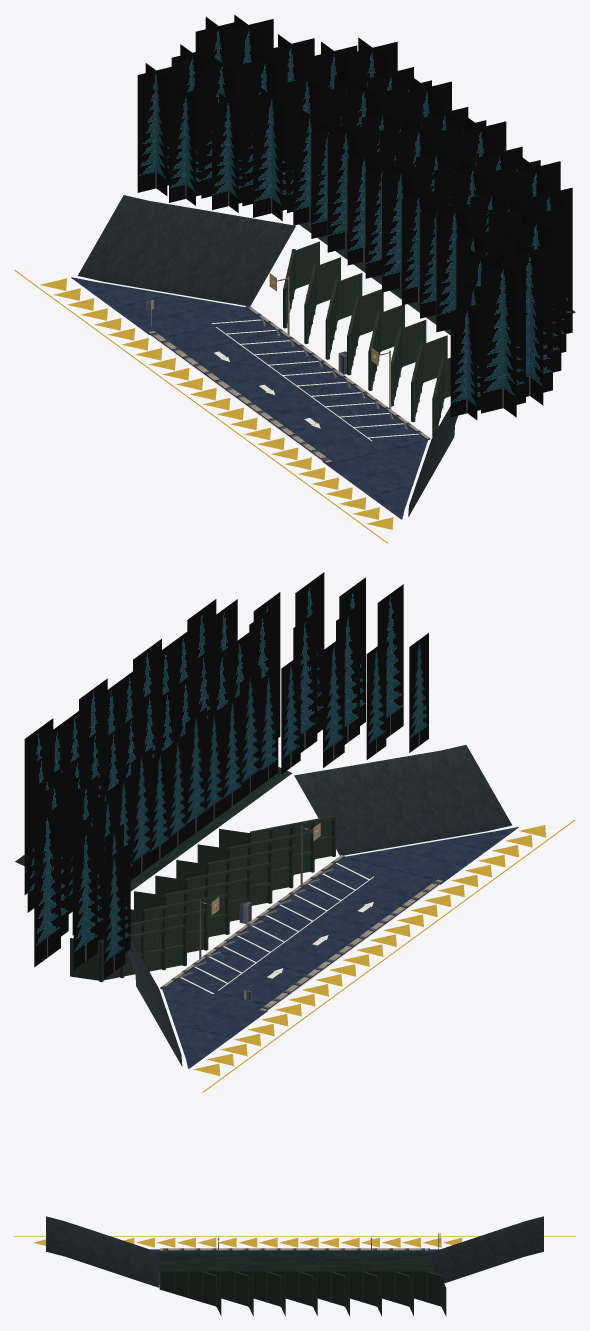
Rendered from lot_assembled_preview.glb.
The picture shows the model from 3 angles, top to bottom: view 1: azimuth 30°, elevation 25°; view 2: azimuth 150°, elevation 25°; view 3: azimuth 270°, elevation 25°; orthographic projection. The views are drawn at different scales.
Visible parts, largest first — view 1: lot_floor, lot_taper_cut, lot_cedar_171, lot_road_paint, lot_cedar_172, lot_cedar_30, lot_cedar_0, lot_cedar_10, lot_cedar_170, lot_cedar_20, lot_cedar_60, lot_cedar_21 (+46 smaller); view 2: lot_floor, lot_taper_cut, lot_road_paint, lot_cedar_2, lot_cedar_1, lattice_z16.0, lot_cedar_171, lot_cedar_0, lot_cedar_90, lot_cedar_150, lot_cedar_151, lot_cedar_120 (+50 smaller); view 3: lot_taper_cut, lot_hill_verge, lot_road_paint, lattice_z44.0, lattice_z16.0, lattice_z40.0, lattice_z32.0, lattice_z36.0, lattice_z28.0, lattice_z24.0, lattice_z20.0, lot_curbs.
Boxes of the visible parts, box(x1,y1,x2,y2) form: lot_floor: box(71, 277, 427, 519); lot_taper_cut: box(77, 195, 457, 516); lot_cedar_171: box(481, 256, 525, 417); lot_road_paint: box(14, 270, 393, 543); lot_cedar_172: box(507, 241, 552, 405); lot_cedar_30: box(253, 88, 286, 220); lot_cedar_0: box(137, 63, 171, 195); lot_cedar_10: box(169, 85, 201, 205); lot_cedar_170: box(450, 300, 480, 419); lot_cedar_20: box(212, 93, 242, 212); lot_cedar_60: box(327, 123, 361, 252); lot_cedar_21: box(242, 49, 287, 206); lot_floor: box(162, 827, 518, 1068); lot_taper_cut: box(127, 745, 512, 1066); lot_road_paint: box(193, 819, 575, 1092); lot_cedar_2: box(34, 803, 60, 967); lot_cedar_1: box(73, 822, 97, 969); lattice_z16.0: box(70, 925, 186, 982); lot_cedar_171: box(377, 584, 403, 738); lot_cedar_0: box(103, 846, 125, 979); lot_cedar_90: box(185, 707, 206, 839); lot_cedar_150: box(323, 635, 344, 767); lot_cedar_151: box(293, 611, 317, 752); lot_cedar_120: box(239, 668, 261, 798); lot_taper_cut: box(46, 1216, 543, 1287); lot_hill_verge: box(158, 1251, 431, 1271); lot_road_paint: box(14, 1236, 575, 1247); lattice_z44.0: box(159, 1271, 221, 1315); lattice_z16.0: box(398, 1271, 446, 1316); lattice_z40.0: box(205, 1271, 253, 1316); lattice_z32.0: box(269, 1271, 317, 1315); lattice_z36.0: box(237, 1271, 285, 1316); lattice_z28.0: box(301, 1271, 349, 1316); lattice_z24.0: box(333, 1271, 381, 1316); lattice_z20.0: box(365, 1271, 413, 1315); lot_curbs: box(158, 1248, 429, 1287).
Size of the model in its own units: 31.03 by 23.8 by 70.
15 materials, 15 textured.
